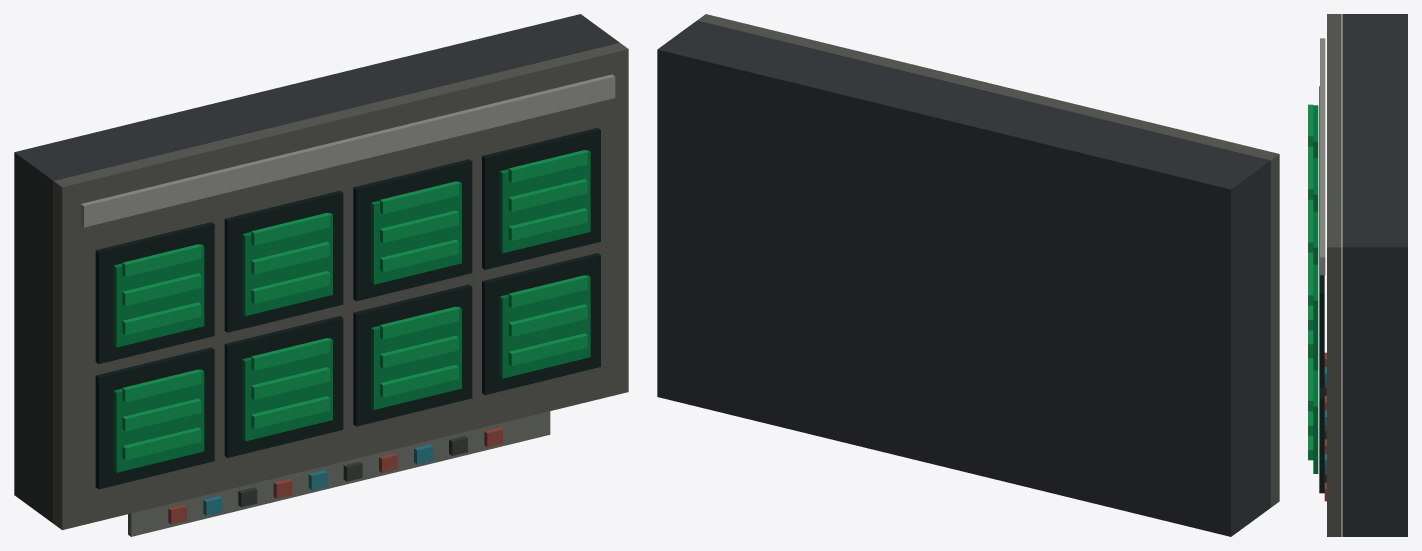
The model's file is CMU3DGreenEightMonitorBank.glb.
3 views of the same model, side by side, from view 1: azimuth 30°, elevation 25°; view 2: azimuth 150°, elevation 25°; view 3: azimuth 270°, elevation 25° (orthographic). The views are drawn at different scales.
Parts seen in each view (by area): view 1: monitor front bezel, screen black border (×8), wall monitor rear housing, green monitor glass (×8), horizontal monitor scan band (×24), upper monitor silver strip, lower control rail; view 2: wall monitor rear housing, monitor front bezel; view 3: wall monitor rear housing, monitor front bezel, green monitor glass (×5), horizontal monitor scan band (×9), upper monitor silver strip, screen black border (×2).
Boxes of the visible parts, <box> form: monitor front bezel: <box>53,42,628,530</box>; screen black border (×8): <box>95,128,600,489</box>; wall monitor rear housing: <box>14,14,619,523</box>; green monitor glass (×8): <box>113,150,590,472</box>; horizontal monitor scan band (×24): <box>122,150,587,460</box>; upper monitor silver strip: <box>81,74,615,227</box>; lower control rail: <box>128,411,550,536</box>; wall monitor rear housing: <box>657,21,1270,536</box>; monitor front bezel: <box>697,14,1279,507</box>; wall monitor rear housing: <box>1342,14,1407,536</box>; monitor front bezel: <box>1327,14,1341,536</box>; green monitor glass (×5): <box>1313,105,1318,473</box>; horizontal monitor scan band (×9): <box>1308,104,1313,460</box>; upper monitor silver strip: <box>1320,38,1325,275</box>; screen black border (×2): <box>1319,245,1324,493</box>.
Size of the model in its own units: 0.968 by 0.606 by 0.175.
